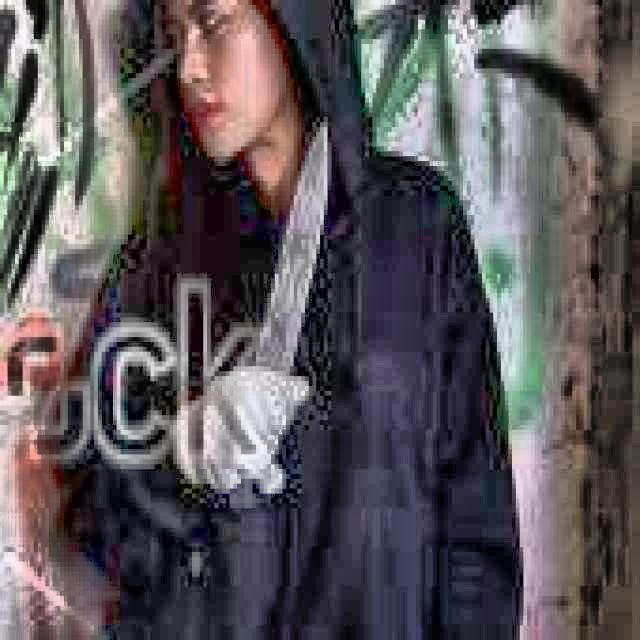knife: (228, 122, 327, 504)
